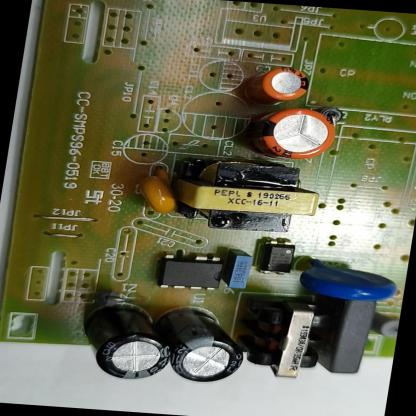Cap1: (231, 103, 350, 161)
Cap2: (234, 58, 325, 113)
Cap3: (152, 298, 250, 386)
Cap4: (74, 288, 186, 382)
MOSFET: (140, 243, 242, 297)
Mov: (285, 253, 408, 310)
Resistor: (366, 309, 401, 343)
Transformer: (153, 147, 332, 239), (232, 292, 338, 383)
